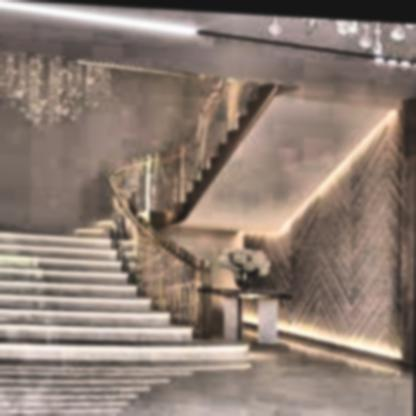stair: (0, 211, 204, 416)
